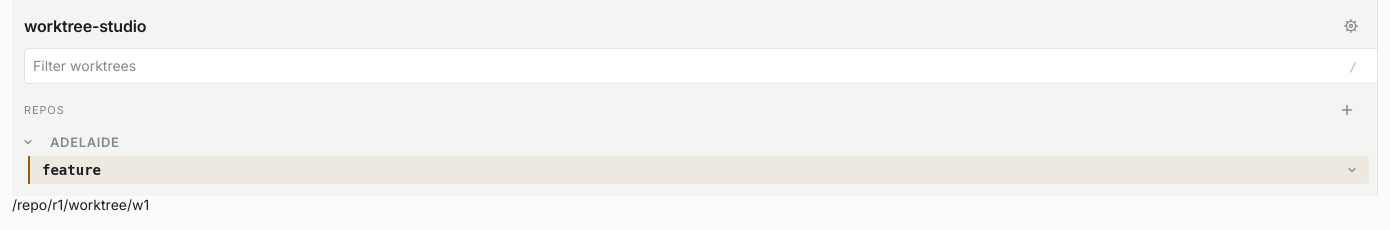
it: Sidebar worktree row › collapsing a repo hides its worktrees and shows a count instead
Expected: the element titled "feature" is shown, [42,162,101,178]
Click the button named "collapse adelaide": (28, 142) [20,134,36,150]
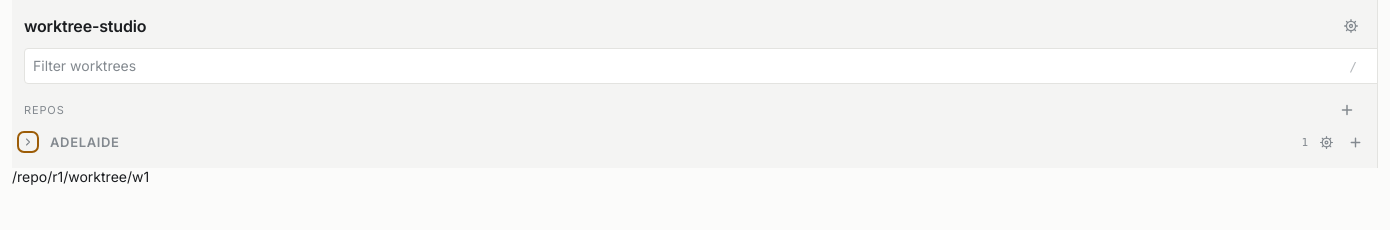
Expected: the link titled "feature" is gone
Expected: the text "1" is shown, [1301,136,1308,148]
Click the button named "expand adelaide": (28, 142) [20,134,36,150]
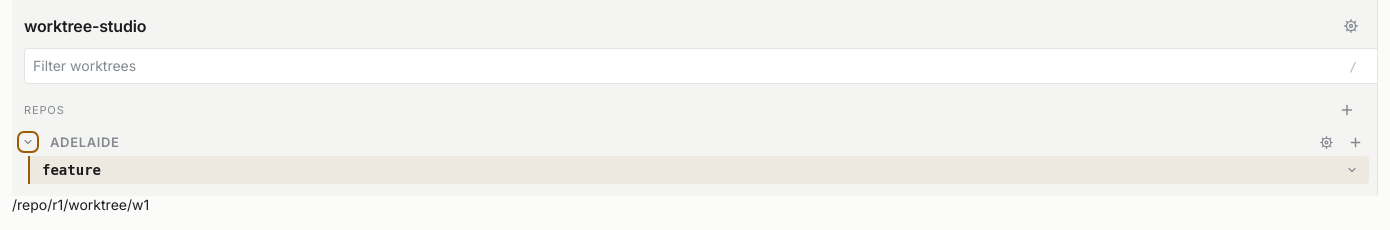
Expected: the element titled "feature" is shown, [42,162,101,178]
